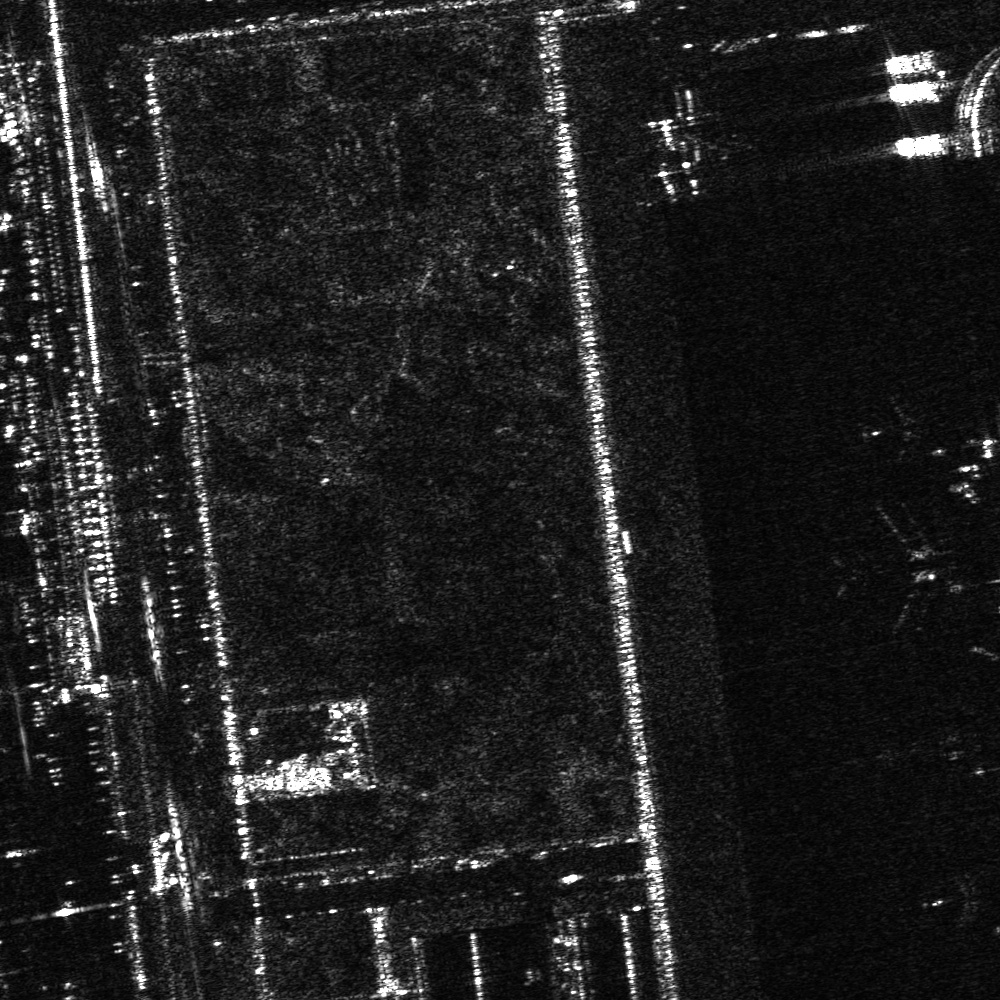Boeing787: (828, 496, 957, 633), (853, 389, 930, 462), (919, 863, 994, 931)
other: (628, 109, 720, 205)
